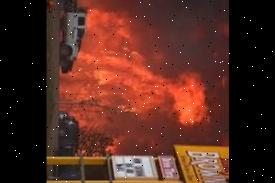fire: (61, 57, 217, 143)
